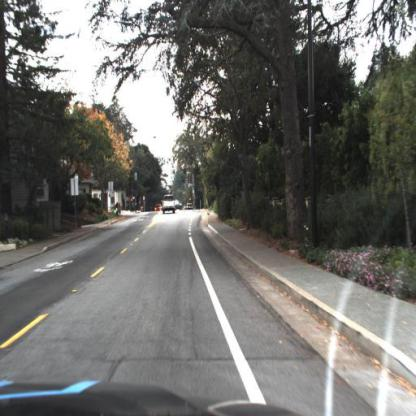car: (162, 192, 174, 214)
